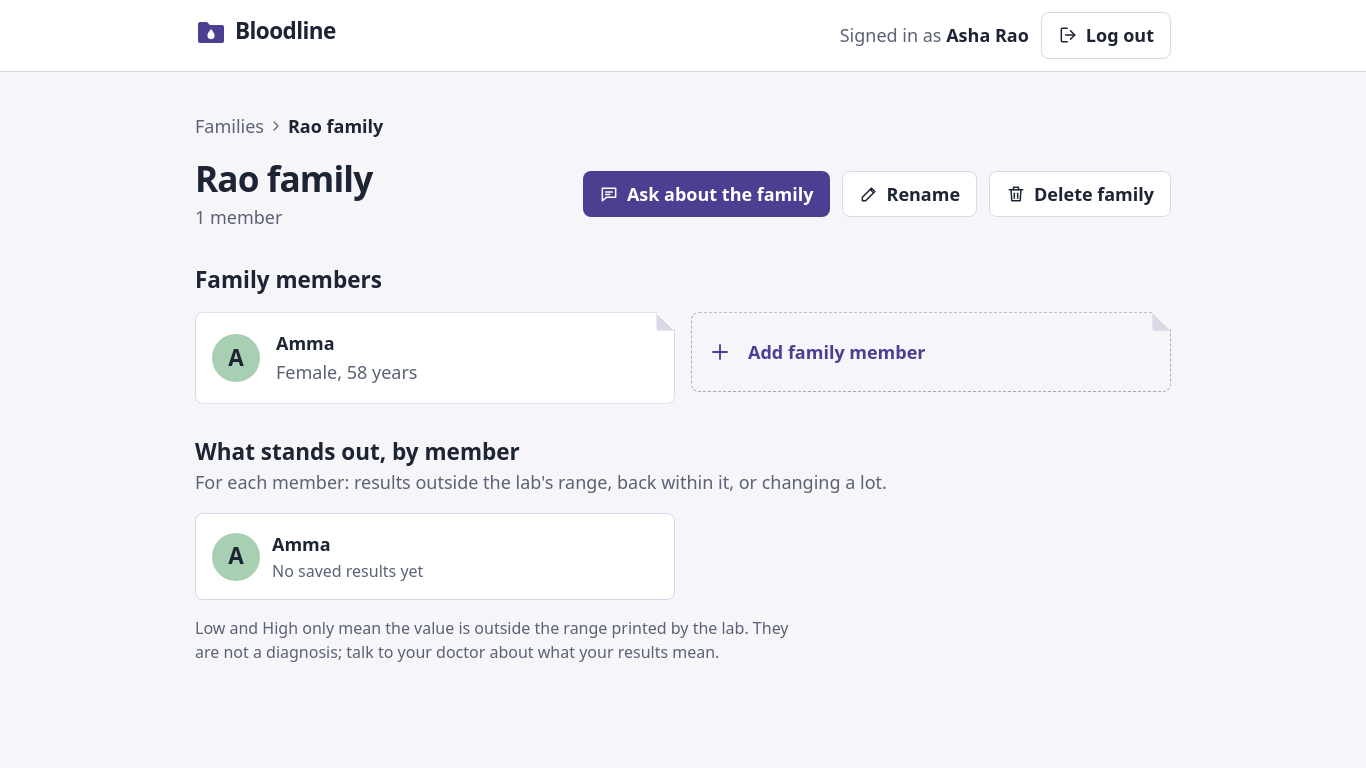
it: members of a family › can be added, with the date of birth optional
This screenshot has width=1366, height=768.
Click the button "Add family member". click: (931, 352)
box: 691,312 -> 1171,392
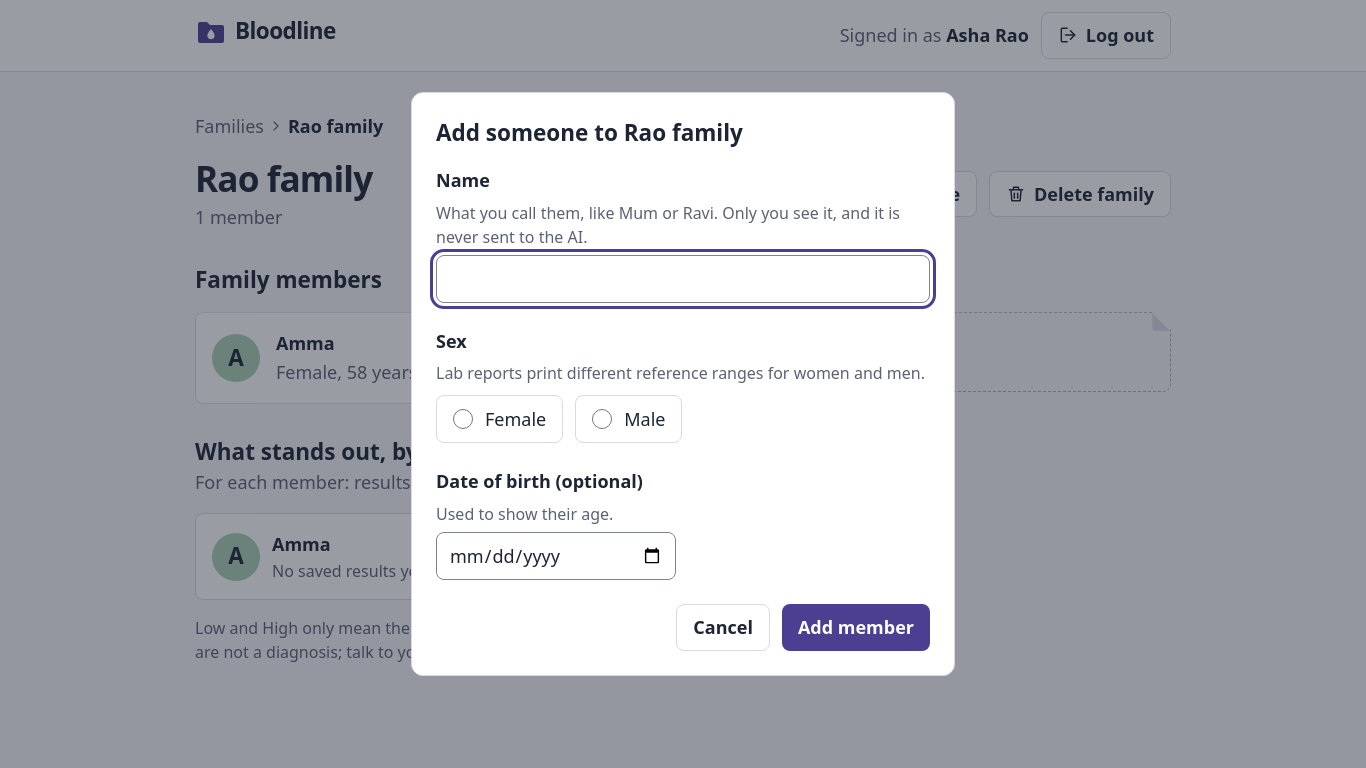
Type " Ravi " into the field labelled "Name". click: (683, 278)
box: 436,254 -> 930,302
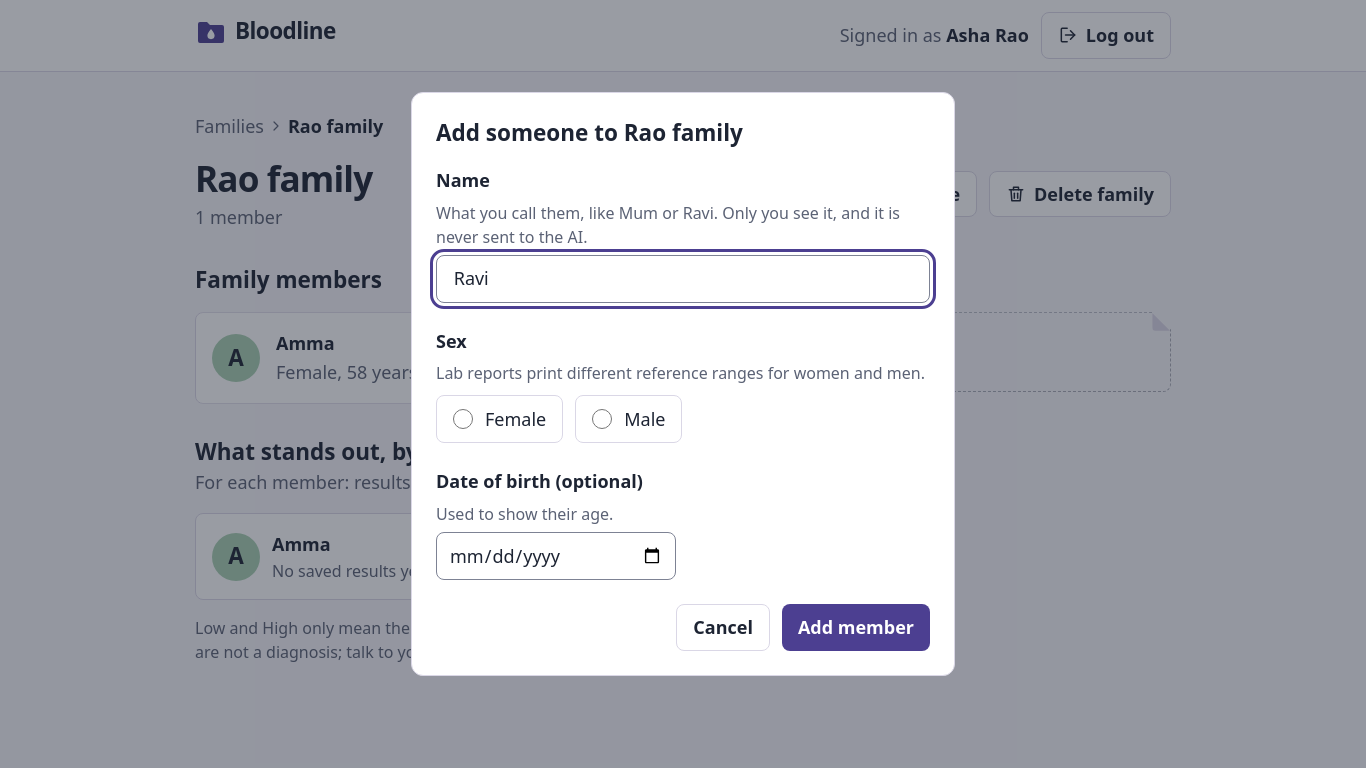
Click the radio button labelled "Male". click: (602, 419)
box: 592,409 -> 612,429
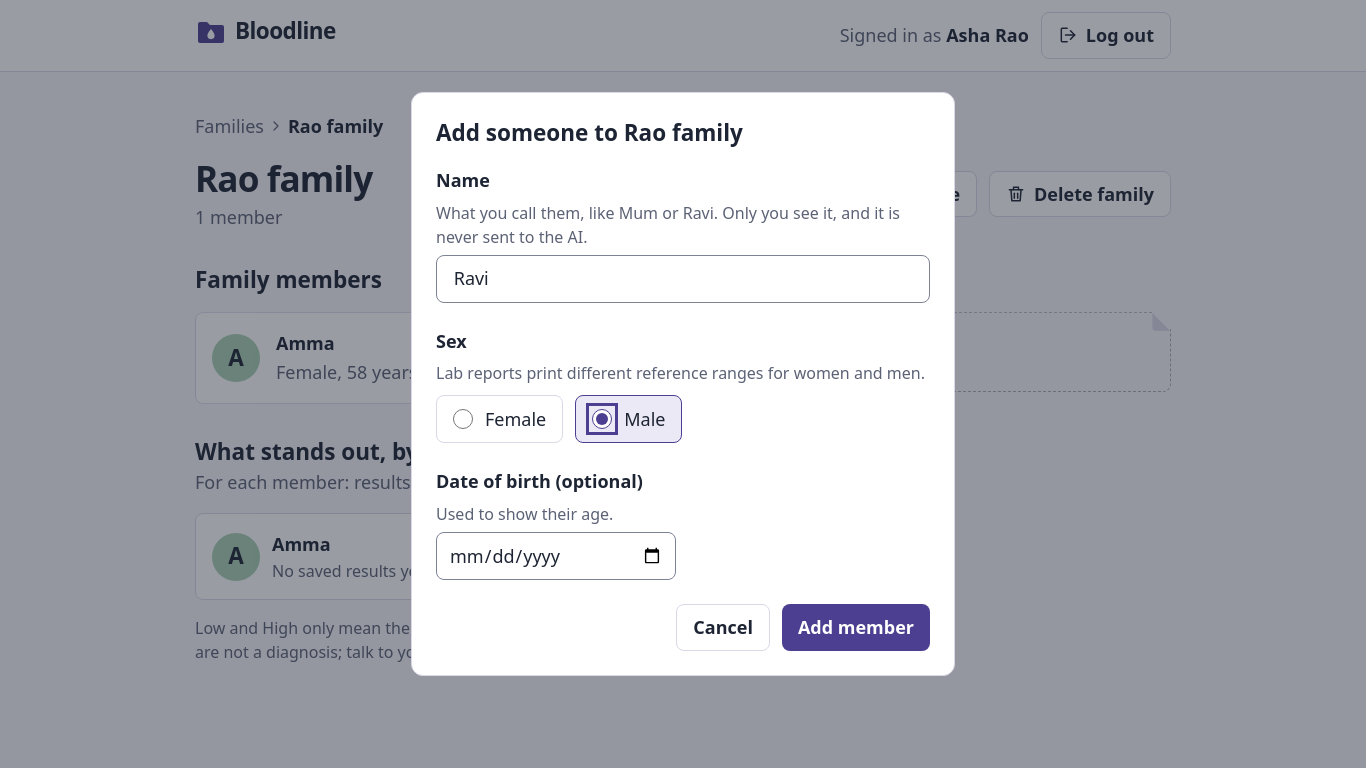
Click the button "Add member". click: (856, 628)
box: 782,604 -> 930,651
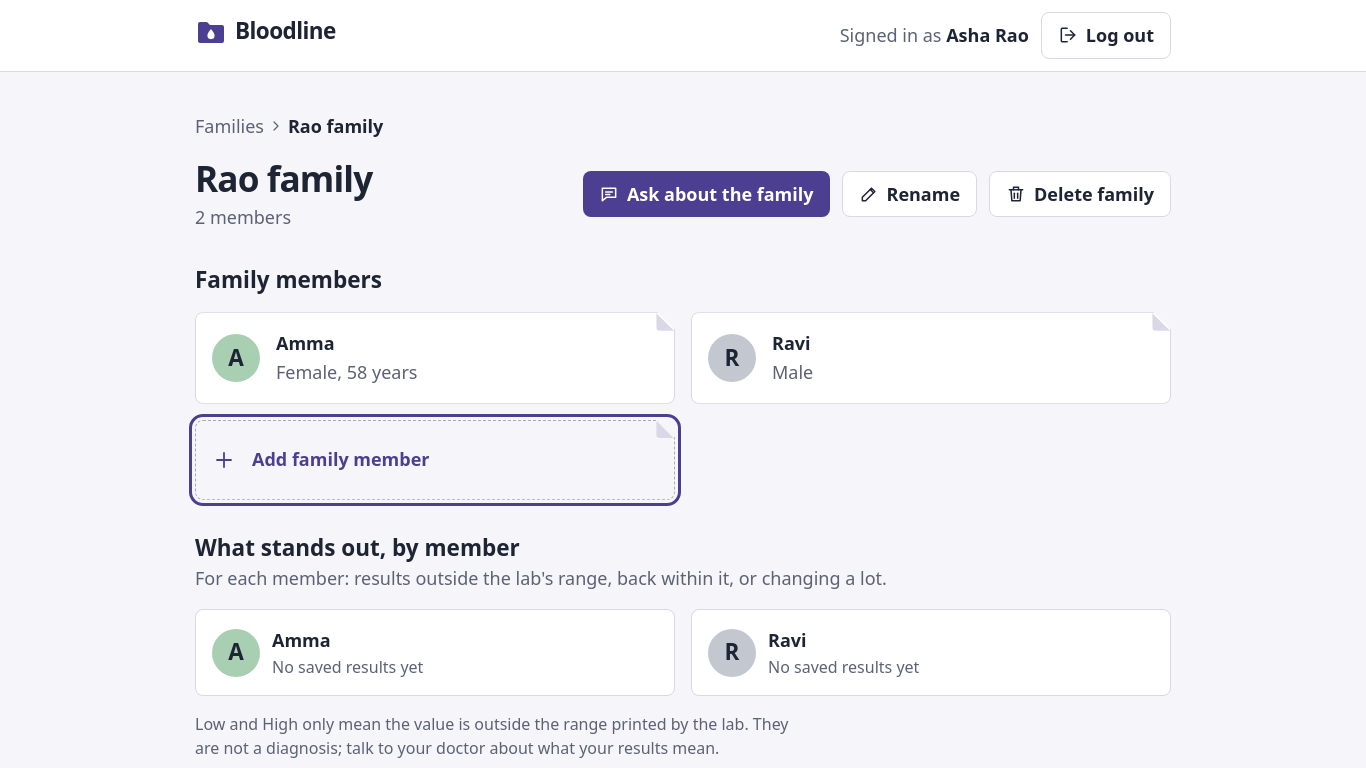
Check: the text "2 members" is shown, box 195,205 -> 291,229
Check: the dialog is gone
